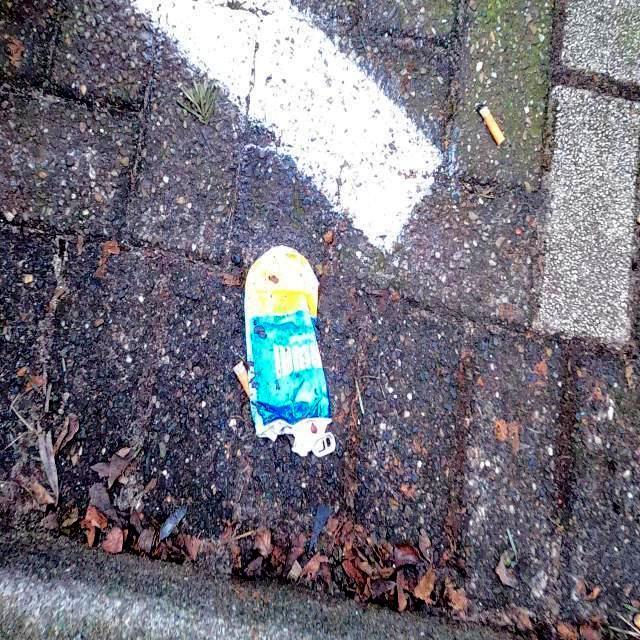Metal: (242, 242, 336, 460)
